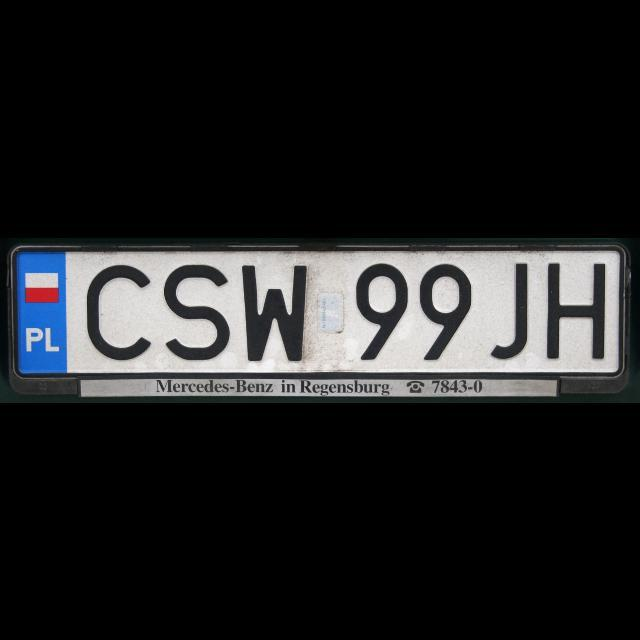license-plates: (16, 246, 627, 377)
